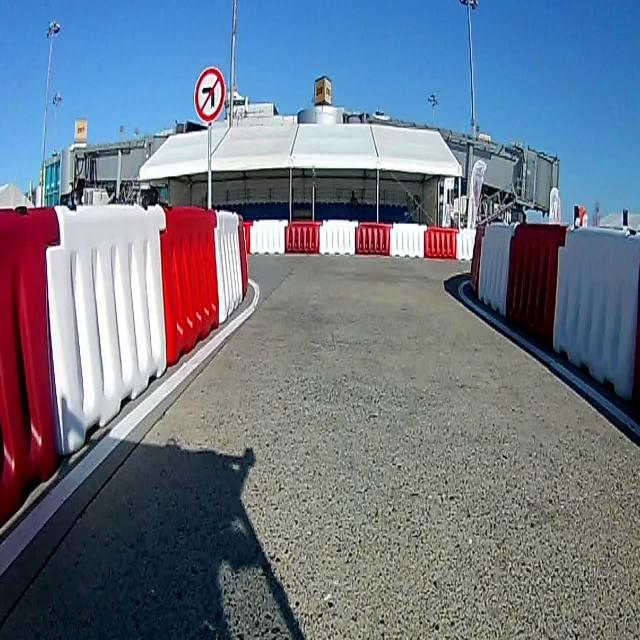soladonulmez: (194, 66, 224, 122)
